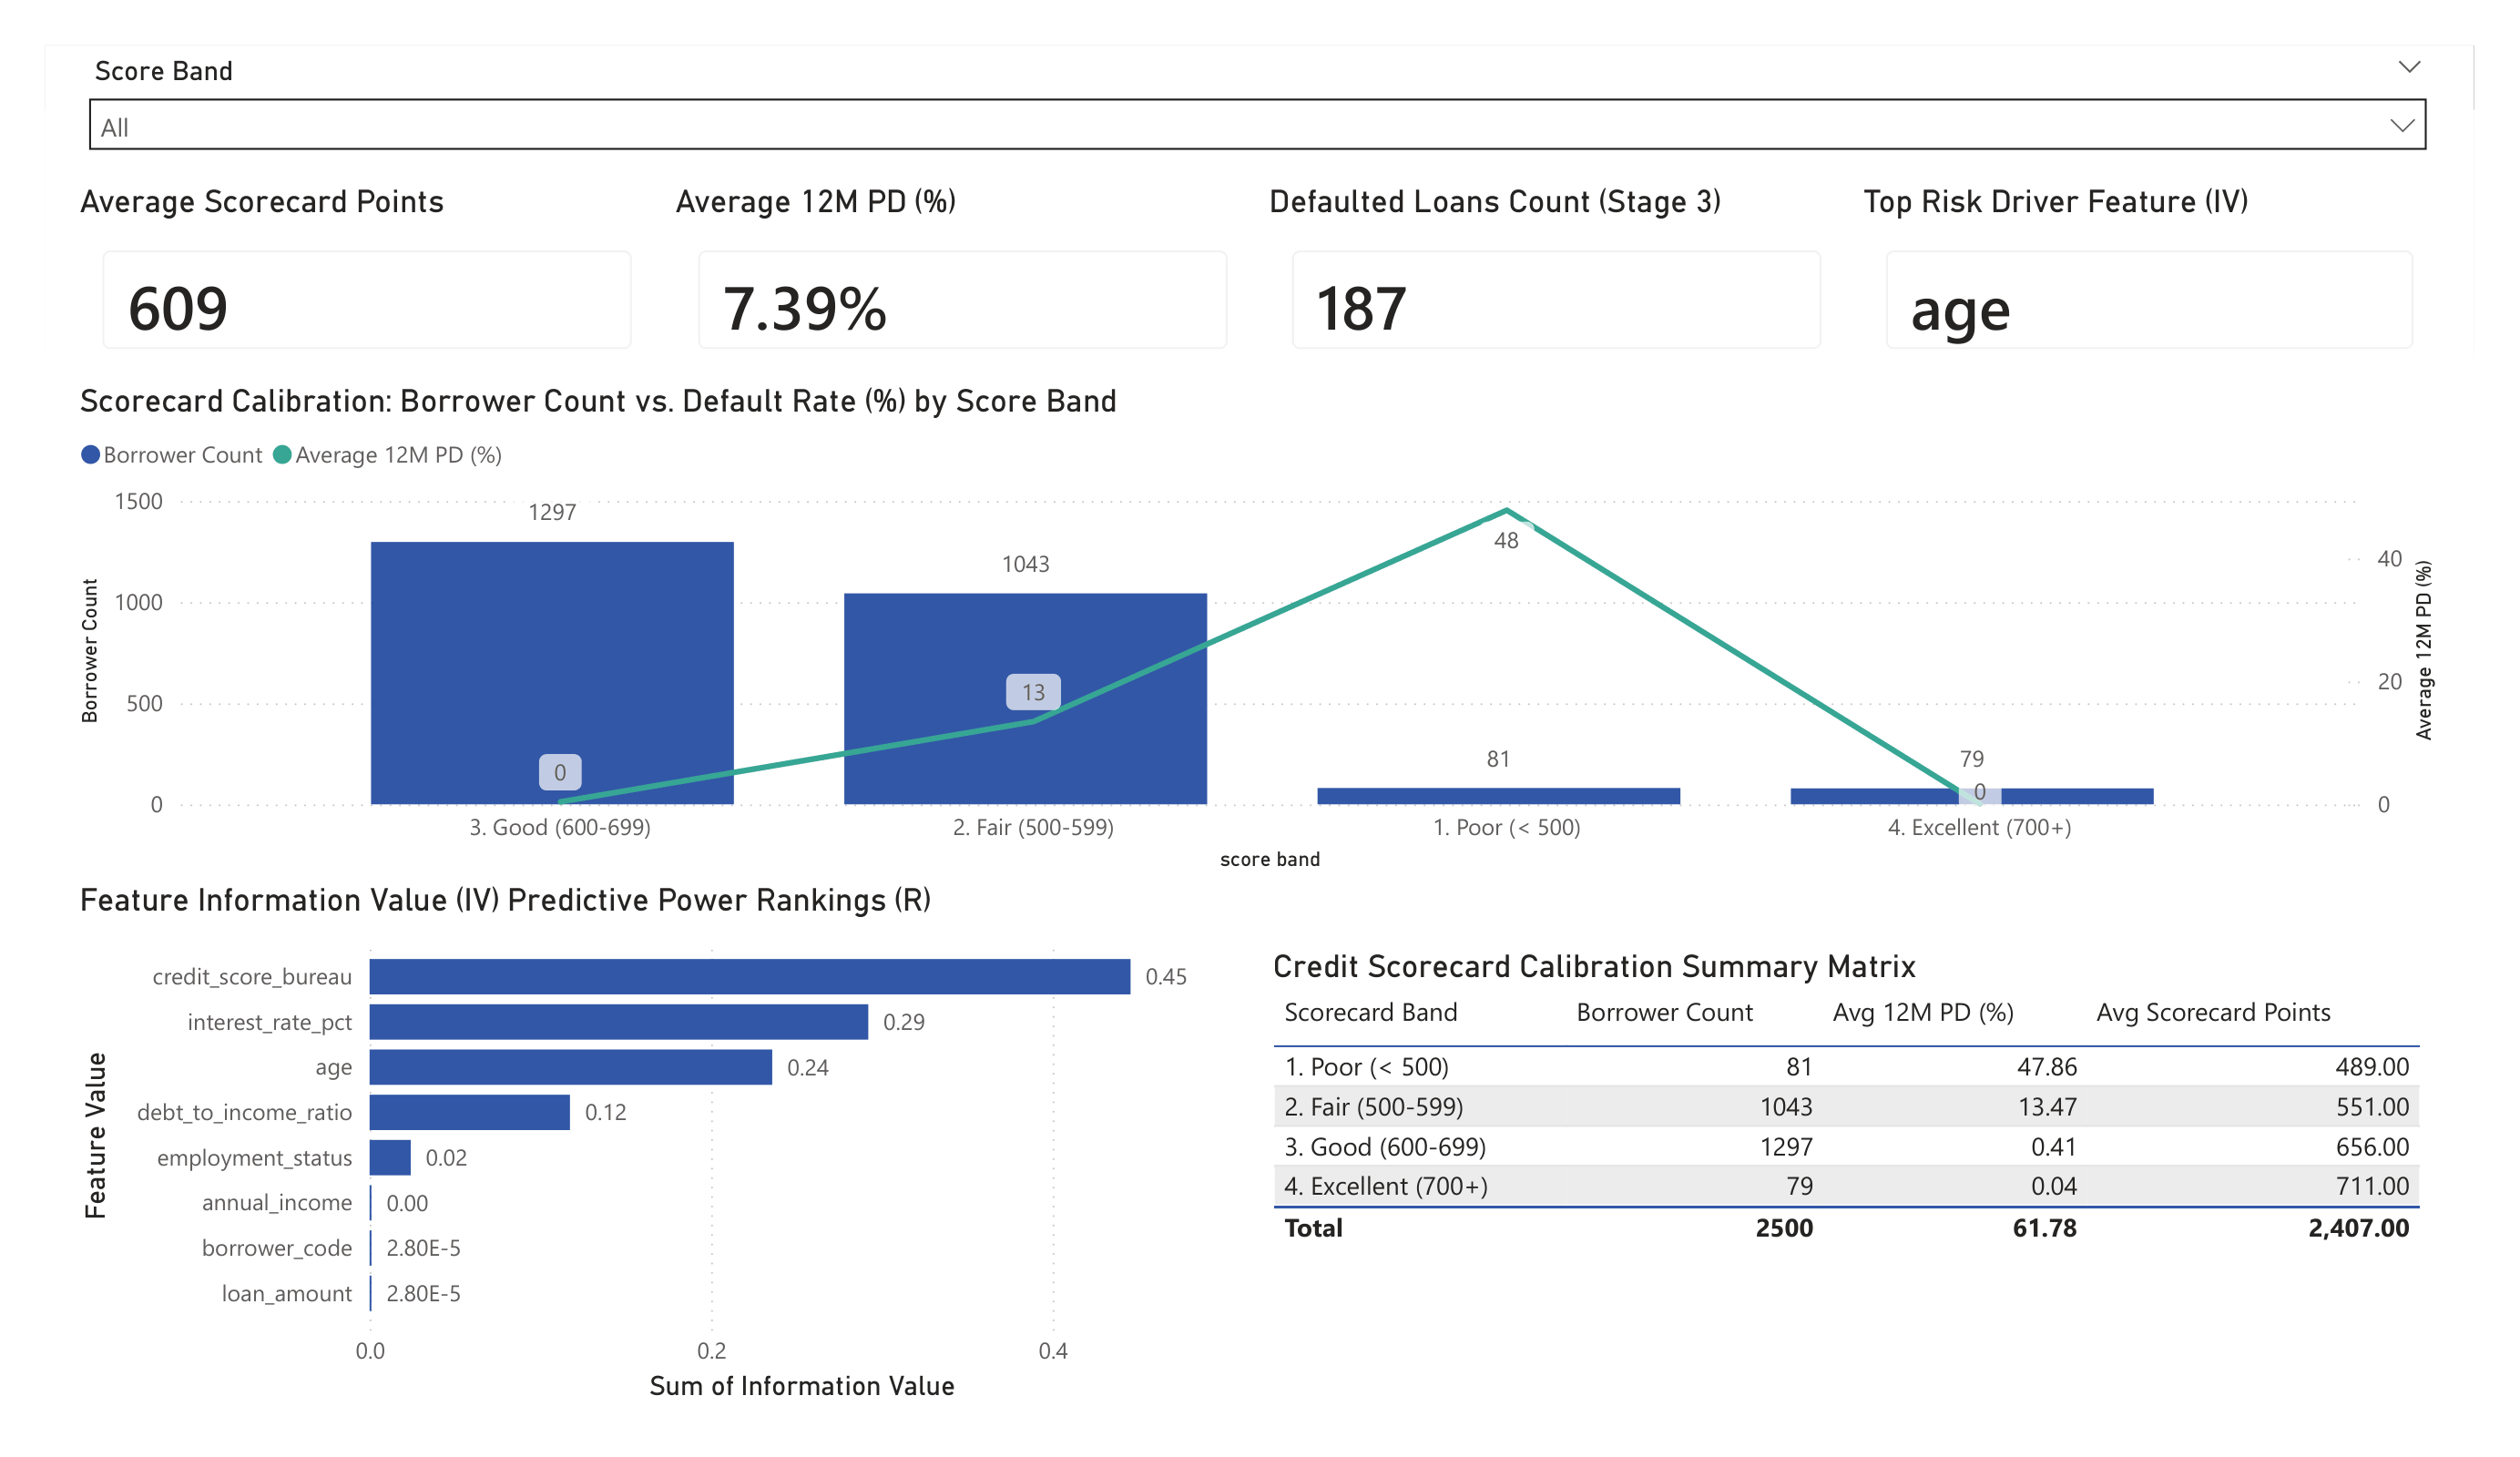

The dashboard page shown, as its layout file describes it:
{"tool":"powerbi","page":{"name":"2. Scorecard & IV Analytics","canvas":[1280,720],"ordinal":1},"visuals":[{"type":"cardVisual","title":"Average Scorecard Points","fields":{"Data":["_Credit Risk Measures.Average Credit Scorecard Points"]},"box":[13.3,72.2,313.3,105.6],"z":0},{"type":"cardVisual","title":"Average 12M PD (%)","fields":{"Data":["_Credit Risk Measures.Average 12M PD %"]},"box":[326.7,72.2,313.3,105.6],"z":1},{"type":"cardVisual","title":"Defaulted Loans Count (Stage 3)","fields":{"Data":["_Credit Risk Measures.Total Defaulted Loans Count"]},"box":[640,72.2,313.3,105.6],"z":2},{"type":"cardVisual","title":"Top Risk Driver Feature (IV)","fields":{"Data":["Min(vw_feature_iv_rankings.feature_name)"]},"box":[953.3,72.2,312.2,105.6],"z":3},{"type":"lineStackedColumnComboChart","title":"Scorecard Calibration: Borrower Count vs. Default Rate (%) by Score Band","fields":{"Category":["vw_scorecard_distribution.score_band"],"Y":["Sum(vw_scorecard_distribution.borrower_count)"],"Y2":["Sum(vw_scorecard_distribution.avg_pd_12m_pct)"]},"box":[13.3,176.7,1251.7,263.3],"z":4},{"type":"clusteredBarChart","title":"Feature Information Value (IV) Predictive Power Rankings (R)","fields":{"Category":["vw_feature_iv_rankings.feature_name"],"Y":["Sum(vw_feature_iv_rankings.information_value)"]},"box":[13.3,440,626.7,280],"z":5},{"type":"tableEx","title":"Credit Scorecard Calibration Summary Matrix","fields":{"Values":["vw_scorecard_distribution.score_band","Sum(vw_scorecard_distribution.borrower_count)","Sum(vw_scorecard_distribution.avg_pd_12m_pct)","Sum(vw_scorecard_distribution.avg_scorecard_points)"]},"box":[641.7,475,625,211.7],"z":6},{"type":"slicer","fields":{"Values":["vw_scorecard_distribution.score_band"]},"box":[13.3,0,1251.7,71.7],"z":7}]}

Visuals, with their boxes on the page's 1280x720 design canvas (x1, y1, x2, y2). These are canvas units, not pixel positions in the 2520x1457 screenshot, which may show the page scaled, cropped or inside an application window:
"Average Scorecard Points" cardVisual: [13, 72, 327, 178]
"Average 12M PD (%)" cardVisual: [327, 72, 640, 178]
"Defaulted Loans Count (Stage 3)" cardVisual: [640, 72, 953, 178]
"Top Risk Driver Feature (IV)" cardVisual: [953, 72, 1266, 178]
"Scorecard Calibration: Borrower Count vs. Default Rate (%) by Score Band" lineStackedColumnComboChart: [13, 177, 1265, 440]
"Feature Information Value (IV) Predictive Power Rankings (R)" clusteredBarChart: [13, 440, 640, 720]
"Credit Scorecard Calibration Summary Matrix" tableEx: [642, 475, 1267, 687]
slicer - vw_scorecard_distribution.score_band: [13, 0, 1265, 72]
